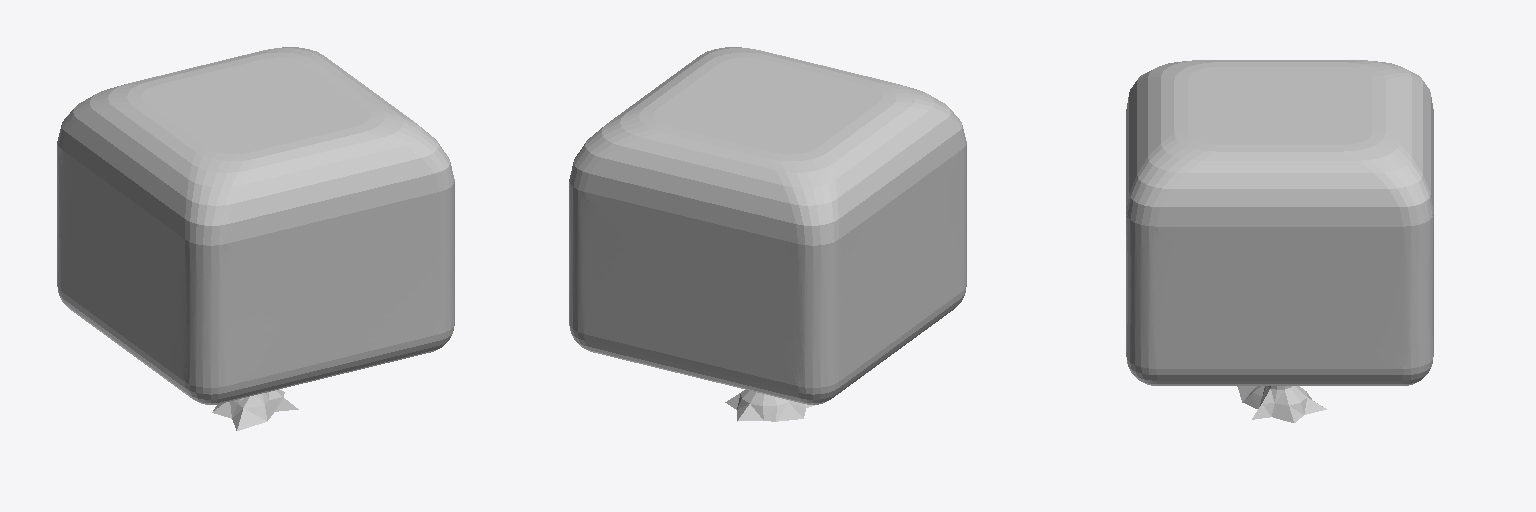
File: BushWallHighPoly.obj
3 views of the same model, side by side, from view 1: azimuth 30°, elevation 25°; view 2: azimuth 150°, elevation 25°; view 3: azimuth 270°, elevation 25° (orthographic).
Visible parts, largest first — view 1: polySurface1; view 2: polySurface1; view 3: polySurface1.
Boxes of the visible parts, box(x1,y1,x2,y2) form: polySurface1: box(57, 47, 454, 430); polySurface1: box(569, 47, 966, 421); polySurface1: box(1126, 60, 1433, 422).
Bounding box in the file's own units: 19.94 × 21.48 × 19.94.